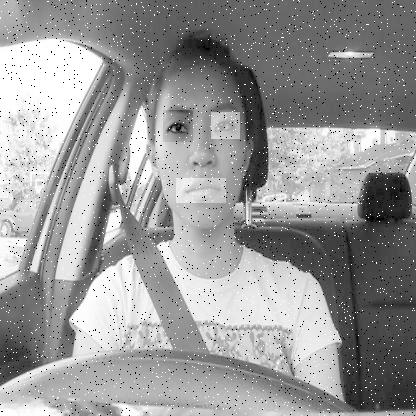seatbelt: (132, 20, 263, 351)
